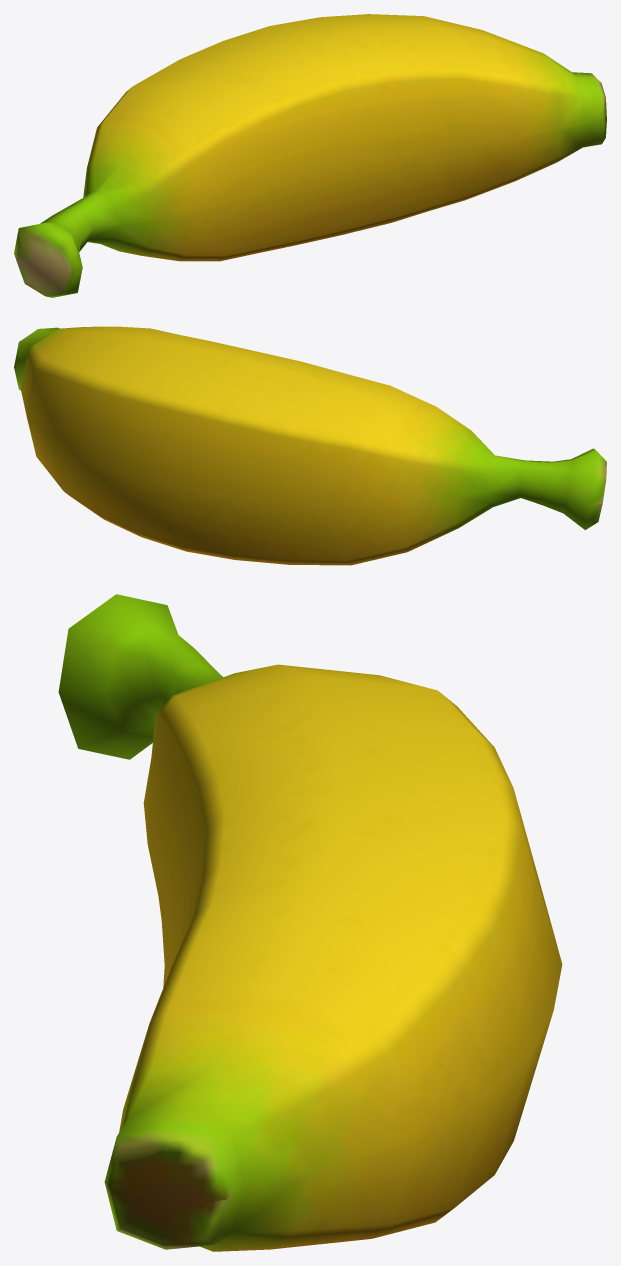
Rendered from Banana.obj.
The picture shows the model from 3 angles, top to bottom: view 1: azimuth 30°, elevation 25°; view 2: azimuth 150°, elevation 25°; view 3: azimuth 270°, elevation 25°; orthographic projection. The views are drawn at different scales.
Parts seen in each view (by area): view 1: Banana; view 2: Banana; view 3: Banana.
Boxes of the visible parts, <box> form: Banana: <box>14,14,606,297</box>; Banana: <box>14,326,606,565</box>; Banana: <box>58,594,562,1251</box>.
Bounding box in the file's own units: 0.3344 × 0.1022 × 0.1272.
Materials: 1 (1 with a texture image).
